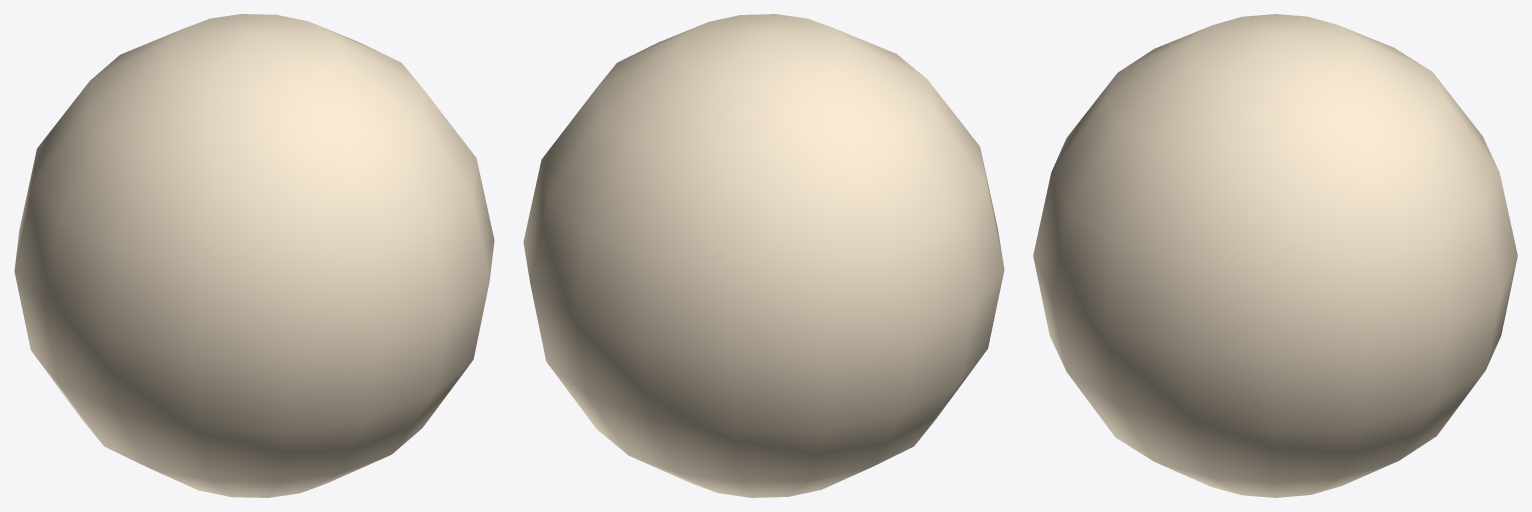
Rendered from MeralEkinciogluNODE.gltf.
The picture shows the model from 3 angles, left to right: view 1: azimuth 30°, elevation 25°; view 2: azimuth 150°, elevation 25°; view 3: azimuth 270°, elevation 25°; orthographic projection.
Visible parts, largest first — view 1: MeralEkinciogluNODE; view 2: MeralEkinciogluNODE; view 3: MeralEkinciogluNODE.
Part boxes in pixels (x1,y1,x2,y2): MeralEkinciogluNODE: (14,14,494,497); MeralEkinciogluNODE: (523,14,1004,497); MeralEkinciogluNODE: (1033,14,1517,497).
Size of the model in its own units: 0.5144 by 0.5144 by 0.5144.
